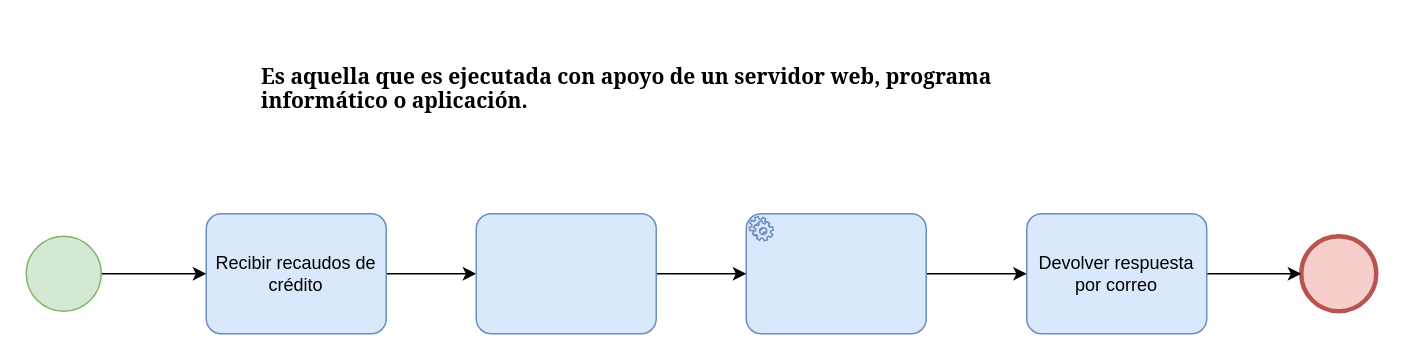
Image size: 1403x360. Some labels were removed from this diagram. Each missing label, with the box of its shape:
Analizar recaudos: (745, 212, 926, 334)
Introducir datos al sistema: (475, 212, 656, 334)
